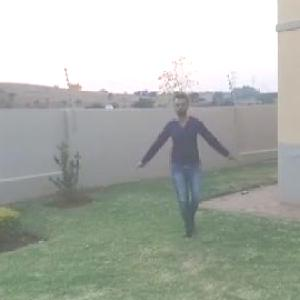land: (134, 91, 239, 253)
